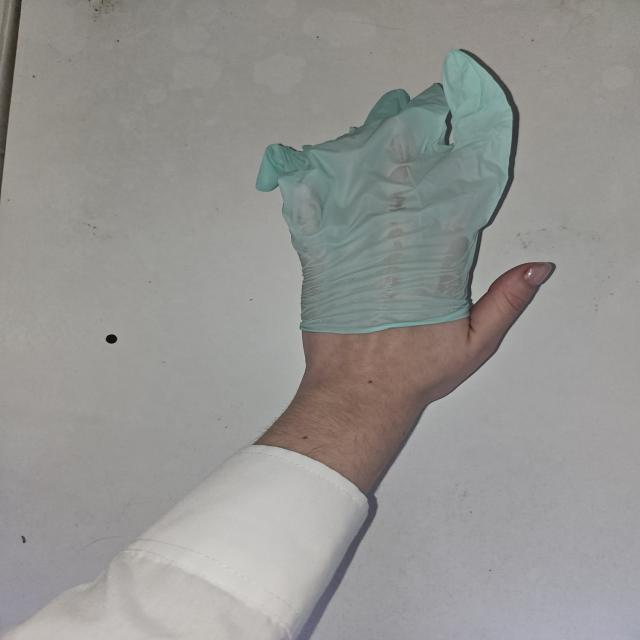glove_partial: (258, 51, 558, 402)
